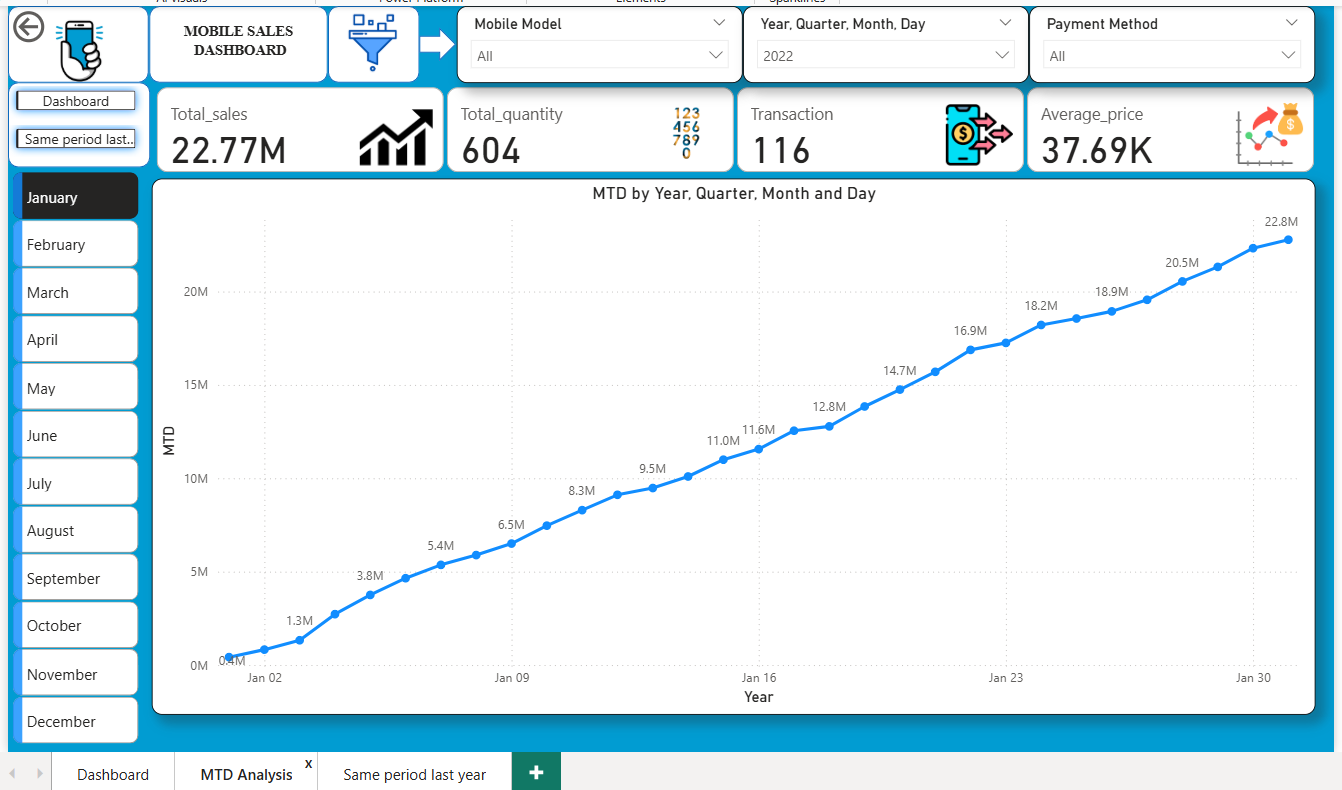

This screenshot's page, from the dashboard's own definition file:
{"tool":"powerbi","page":{"name":"MTD Analysis","canvas":[1280,720],"ordinal":1},"visuals":[{"type":"shape","box":[0,0,135.8,74.1],"z":0},{"type":"image","box":[24.7,0,89.2,86.4],"z":1000},{"type":"shape","box":[0,74.1,137.2,82.3],"z":2000},{"type":"cardVisual","fields":{"Data":["mobile sales data.Total_sales","mobile sales data.Total_quantity","mobile sales data.Transaction","mobile sales data.Average_price"]},"box":[138.7,73.6,1130.4,92.9],"z":3000},{"type":"slicer","fields":{"Values":["mobile sales data.Mobile Model"]},"box":[433,0,276.3,74.1],"z":4000},{"type":"slicer","fields":{"Values":["Calendar.Date.Variation.Date Hierarchy.Year","Calendar.Date.Variation.Date Hierarchy.Quarter","Calendar.Date.Variation.Date Hierarchy.Month","Calendar.Date.Variation.Date Hierarchy.Day"]},"box":[709.3,0,276.3,74.1],"z":5000},{"type":"slicer","fields":{"Values":["mobile sales data.Payment Method"]},"box":[985.6,0,276.3,74.1],"z":6000},{"type":"shape","box":[309.1,0,88.3,74.1],"z":7000},{"type":"image","box":[300.5,2.8,104,66.9],"z":8000},{"type":"shape","box":[397.4,19.9,35.6,32.8],"z":9000},{"type":"shape","box":[136.7,0,172.3,74.1],"z":10000},{"type":"textbox","box":[151,10,146.7,52.7],"z":11000},{"type":"actionButton","box":[0,0,100,40],"z":12000},{"type":"lineChart","fields":{"Y":["mobile sales data.MTD"],"Category":["Calendar.Date.Variation.Date Hierarchy.Year","Calendar.Date.Variation.Date Hierarchy.Quarter","Calendar.Date.Variation.Date Hierarchy.Month","Calendar.Date.Variation.Date Hierarchy.Day"]},"box":[138.7,166.5,1123.2,517.6],"z":13000},{"type":"advancedSlicerVisual","fields":{"Values":["Calendar.Date.Variation.Date Hierarchy.Month"]},"box":[0,156,131.7,564],"z":16000},{"type":"pageNavigator","box":[0,73.6,131.5,73.6],"z":16001}]}

Visuals, with their boxes in screenshot pixels (x1, y1, x2, y2):
shape: 3, 3, 144, 80
image: 29, 3, 121, 93
shape: 3, 80, 145, 165
cardVisual - mobile sales data.Total_sales x mobile sales data.Total_quantity: 147, 80, 1316, 176
slicer - mobile sales data.Mobile Model: 451, 3, 737, 80
slicer - Calendar.Date.Variation.Date Hierarchy.Year x Calendar.Date.Variation.Date Hierarchy.Quarter: 737, 3, 1023, 80
slicer - mobile sales data.Payment Method: 1023, 3, 1308, 80
shape: 323, 3, 414, 80
image: 314, 6, 422, 76
shape: 414, 24, 451, 58
shape: 145, 3, 323, 80
textbox: 160, 14, 311, 68
actionButton: 3, 3, 107, 45
lineChart - mobile sales data.MTD x Calendar.Date.Variation.Date Hierarchy.Year: 147, 176, 1308, 711
advancedSlicerVisual - Calendar.Date.Variation.Date Hierarchy.Month: 3, 165, 140, 748
pageNavigator: 3, 80, 139, 156
